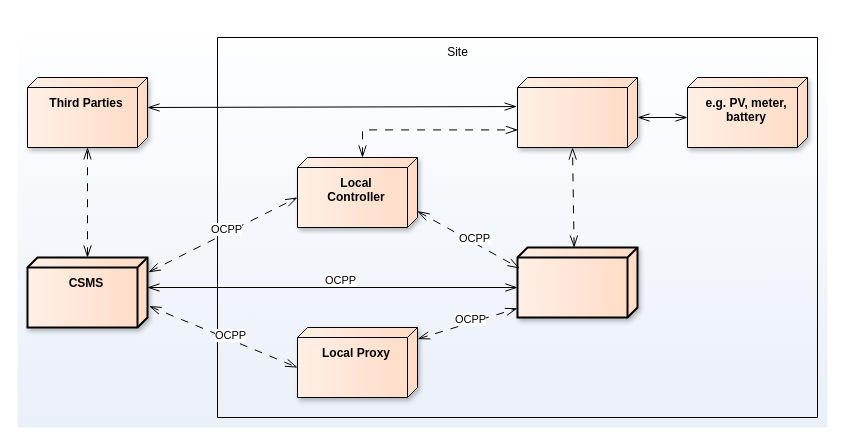
Image size: 844x444. Some labels were removed from this diagram. The shapes that lost their labels are listed below. From the top down, each one's centre as x and y in pixels, then its label:
At (x=578, y=113): "EMS".
At (x=578, y=283): "Charging Station".
